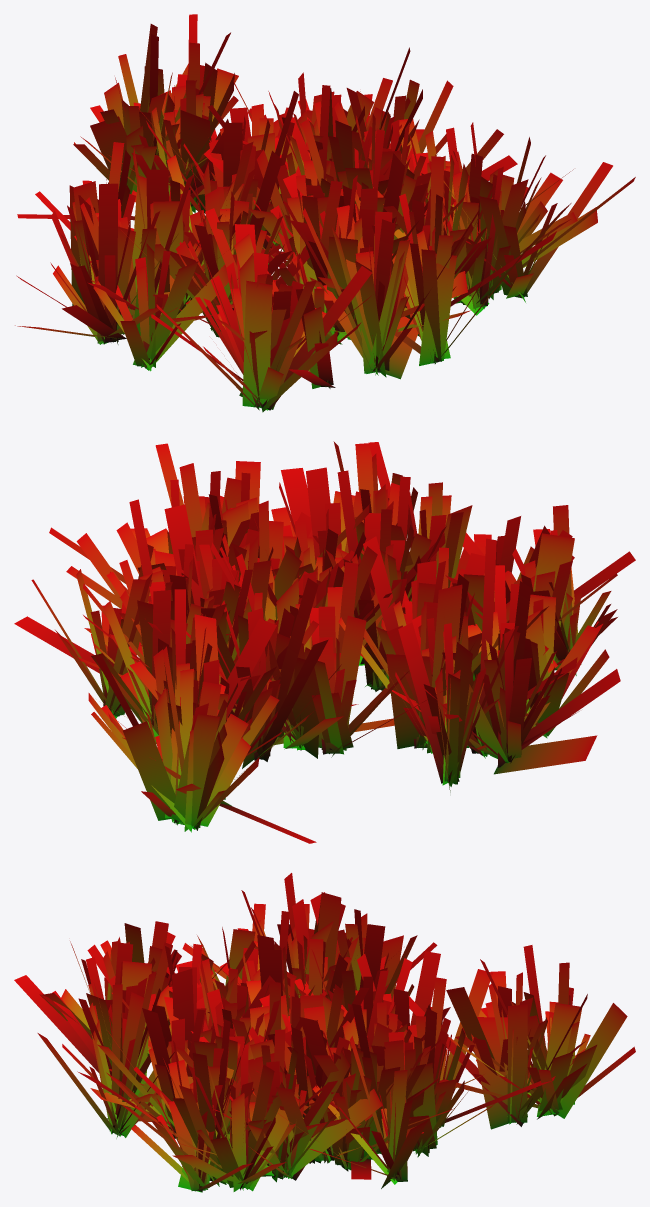
Rendered from Grass Clumps_LOD2_Var1_qmBr2.fbx.
3 renders of one model, top to bottom at view 1: azimuth 30°, elevation 25°; view 2: azimuth 150°, elevation 25°; view 3: azimuth 270°, elevation 25°, orthographic. The views are drawn at different scales.
Parts seen in each view (by area): view 1: _4ac2_Var1_LOD2; view 2: _4ac2_Var1_LOD2; view 3: _4ac2_Var1_LOD2.
Boxes of the visible parts, left/top/right/bottom form: _4ac2_Var1_LOD2: left=15, top=14, right=635, bottom=412; _4ac2_Var1_LOD2: left=14, top=441, right=635, bottom=843; _4ac2_Var1_LOD2: left=14, top=873, right=635, bottom=1192.
Bounding box in the file's own units: 78.19 × 26.57 × 82.38.
